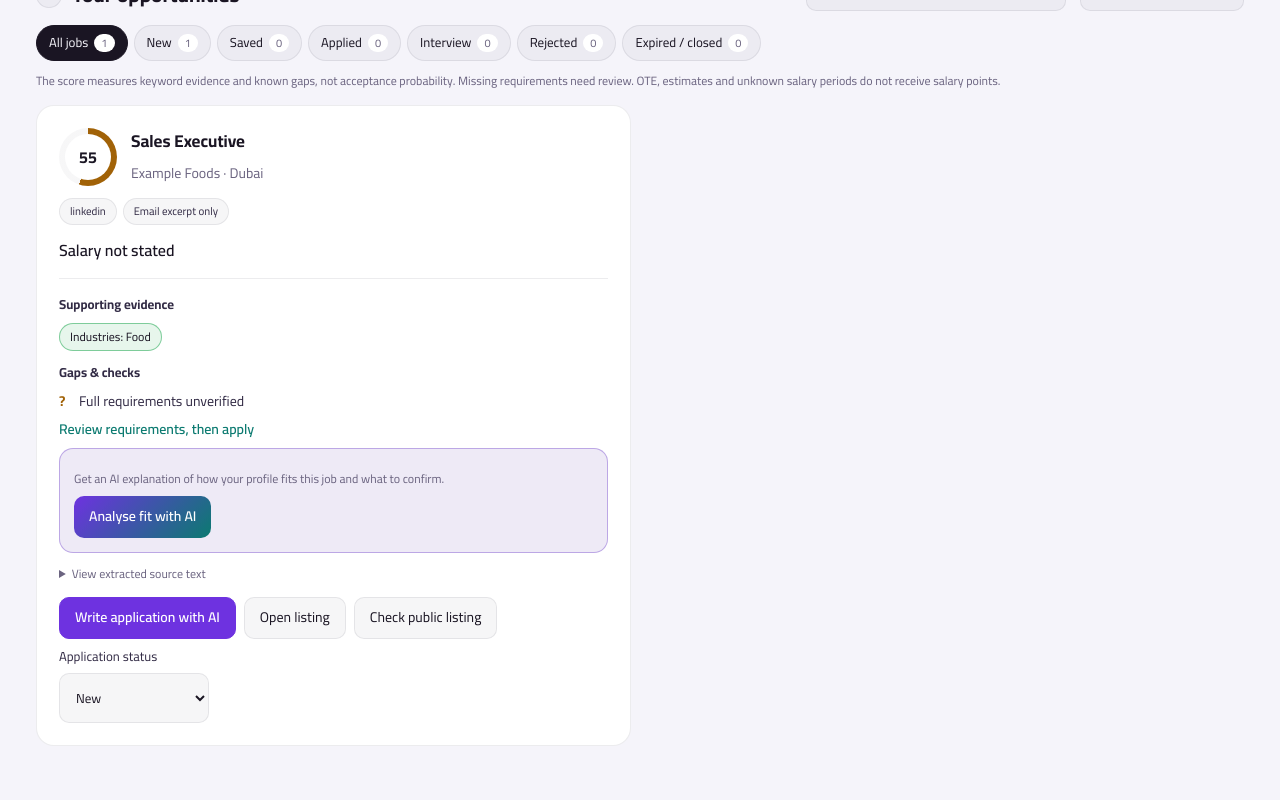
Test: Career assistant › AI draft opens in an editable panel, never sends, and can fall back to the template
(page scrolled)
Expected: the heading "Sales Executive" is shown, [131,129,263,154]
Click the button "Write application with AI" at x=147, y=618, box [59,597,236,639]
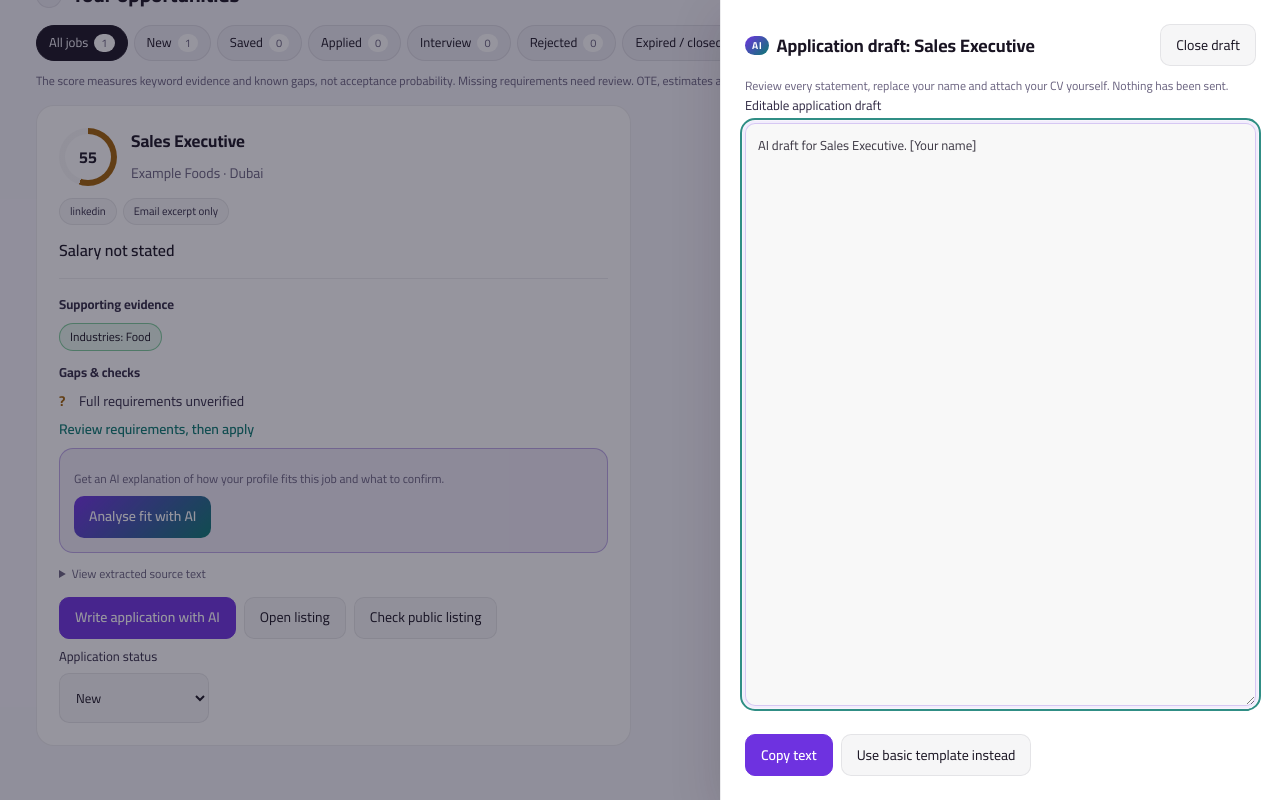
Now the text box labelled "Editable application draft" holds "AI draft for Sales Executive. [Your name]", box [745,123,1256,706]
Now the dialog shows "Nothing has been sent", box [745,74,1228,97]
Click the button "Use basic template instead" at x=936, y=755, box [841,734,1031,776]
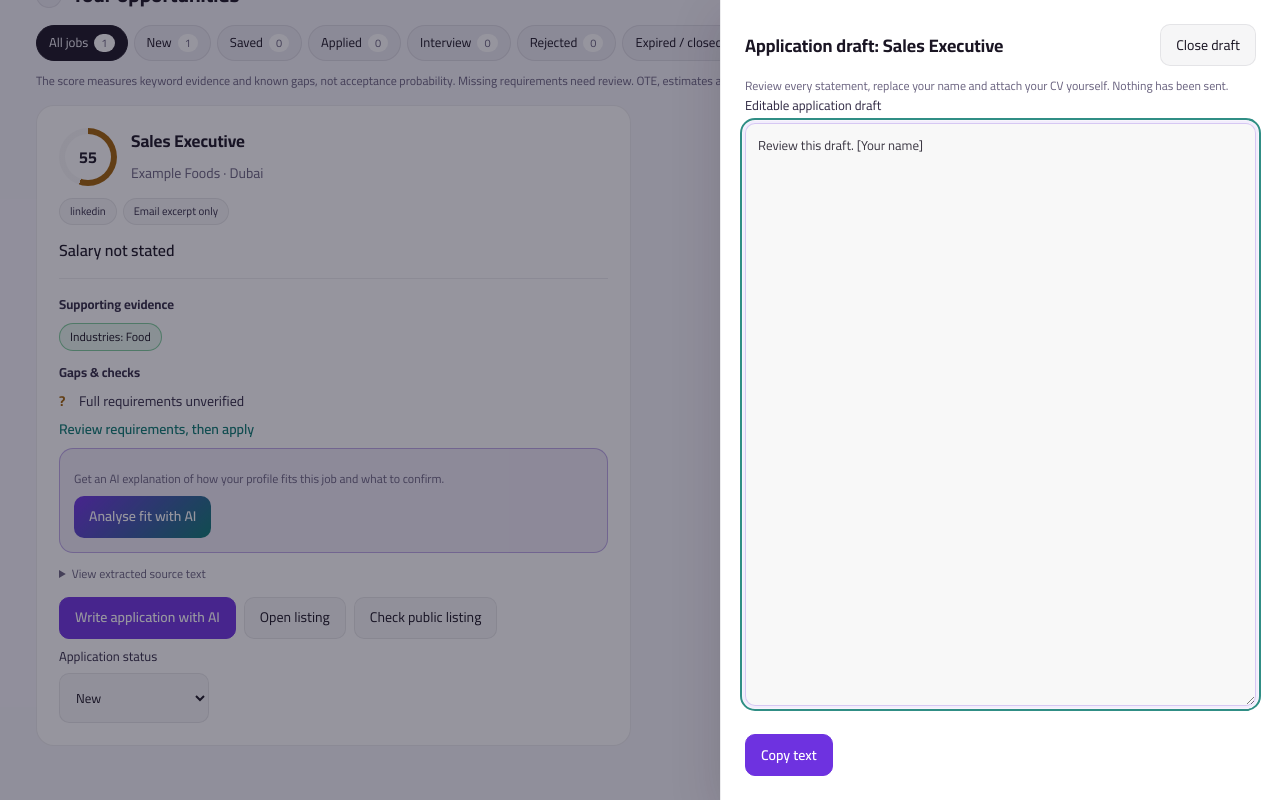
Now the text box labelled "Editable application draft" holds "Review this draft. [Your name]", box [745,123,1256,706]
Press Escape
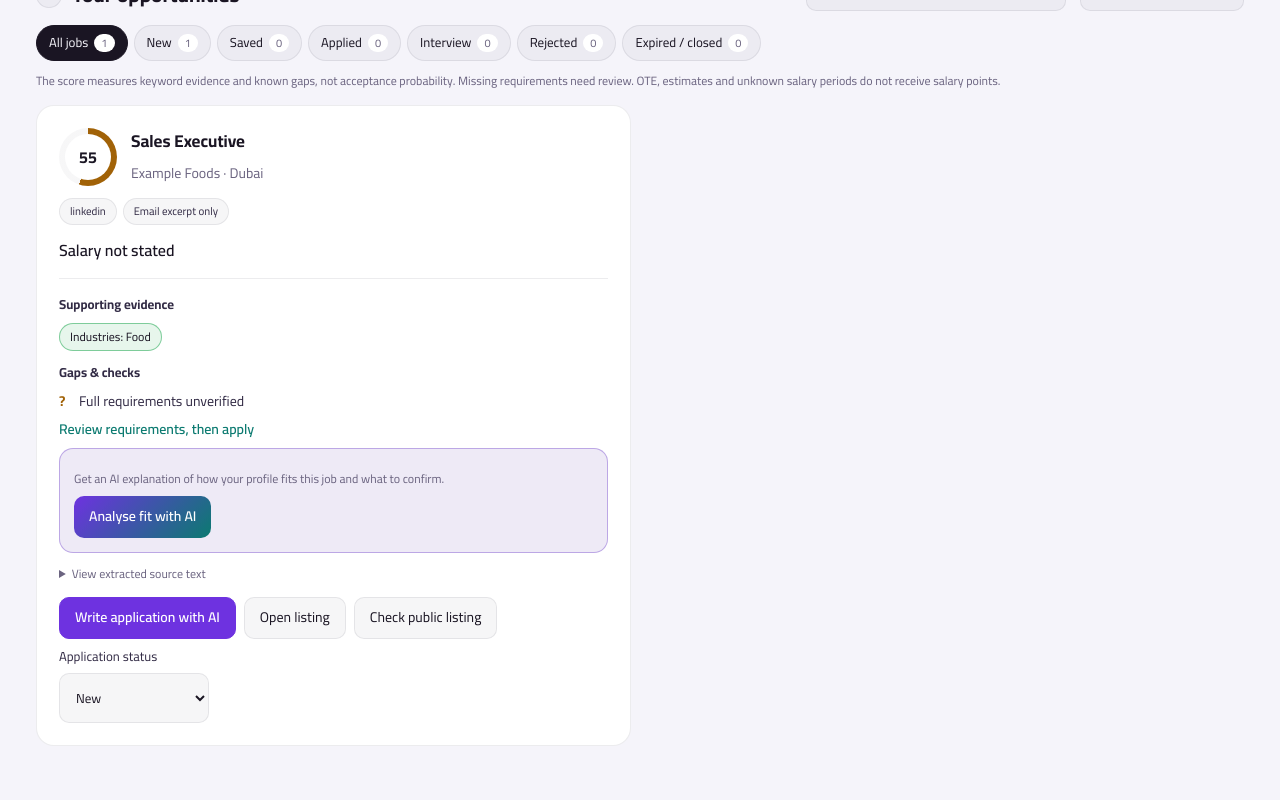
Now the dialog is gone
